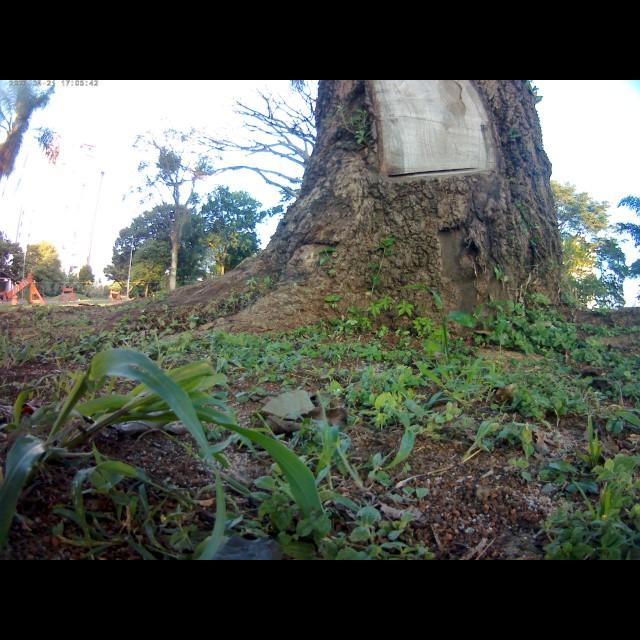arvore: (233, 80, 570, 333)
